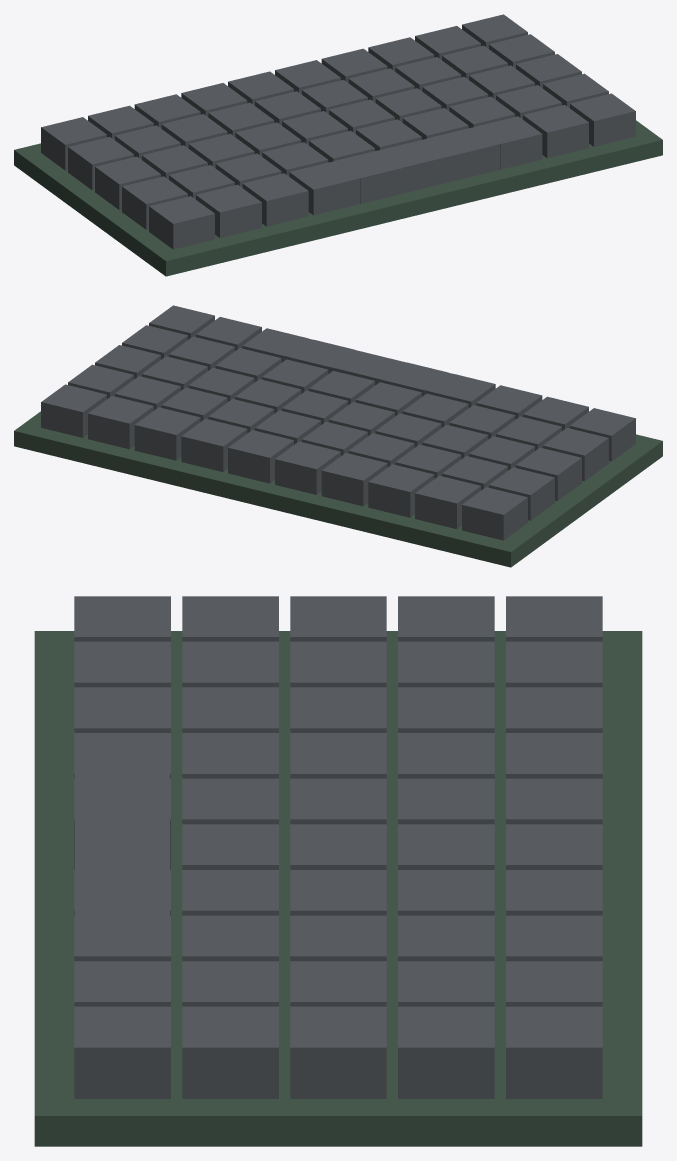
The model's file is keyboard-sb-50.glb.
3 renders of one model, top to bottom at view 1: azimuth 30°, elevation 25°; view 2: azimuth 150°, elevation 25°; view 3: azimuth 270°, elevation 25°, orthographic. The views are drawn at different scales.
Visible parts, largest first — view 1: geometry_0, geometry_46, geometry_41, geometry_44, geometry_43, geometry_42, geometry_50, geometry_49, geometry_48, geometry_47, geometry_45, geometry_31 (+39 smaller); view 2: geometry_0, geometry_46, geometry_1, geometry_4, geometry_8, geometry_7, geometry_3, geometry_2, geometry_5, geometry_6, geometry_10, geometry_9 (+38 smaller); view 3: geometry_0, geometry_46, geometry_10, geometry_20, geometry_30, geometry_40, geometry_50, geometry_2, geometry_5, geometry_8, geometry_12, geometry_15 (+39 smaller).
Part boxes in pixels (x1,y1,x2,y2): geometry_0: (14,120,662,276); geometry_46: (332,126,500,204); geometry_41: (149,196,214,249); geometry_44: (289,162,355,215); geometry_43: (242,173,308,226); geometry_42: (196,184,261,238); geometry_50: (570,93,635,146); geometry_49: (523,105,588,158); geometry_48: (476,116,542,169); geometry_47: (431,127,495,180); geometry_45: (337,150,401,203); geometry_31: (122,176,187,229); geometry_0: (14,411,662,567); geometry_46: (283,338,455,394); geometry_1: (462,487,527,540); geometry_4: (321,453,387,506); geometry_8: (134,407,200,460); geometry_7: (181,418,247,471); geometry_3: (368,464,434,517); geometry_2: (415,475,480,529); geometry_5: (275,441,340,494); geometry_6: (228,430,293,483); geometry_10: (41,384,106,437); geometry_9: (88,396,153,449); geometry_0: (34,631,642,1146); geometry_46: (75,774,169,917); geometry_10: (506,1006,602,1098); geometry_20: (398,1006,494,1098); geometry_30: (290,1006,386,1098); geometry_40: (182,1006,278,1098); geometry_50: (74,1006,170,1098); geometry_2: (506,641,602,687); geometry_5: (506,778,602,824); geometry_8: (506,915,602,961); geometry_12: (398,641,494,687); geometry_15: (398,778,494,824).
Bounding box in the file's own units: 0.202 × 0.016 × 0.107.
